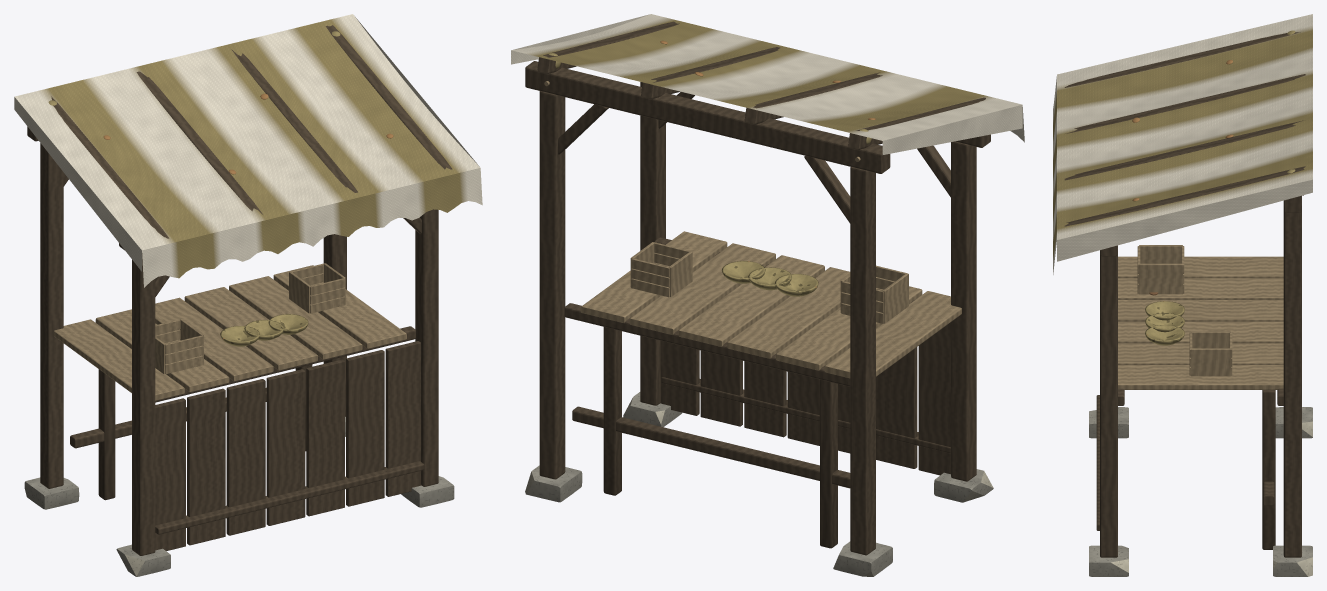
3 views of the same model, side by side, from view 1: azimuth 30°, elevation 25°; view 2: azimuth 150°, elevation 25°; view 3: azimuth 270°, elevation 25° (orthographic). The views are drawn at different scales.
Visible parts, largest first — view 1: heartwood, woven canvas, cut grain, weathered mineral, aged brass; view 2: heartwood, cut grain, woven canvas, weathered mineral, aged brass; view 3: woven canvas, cut grain, heartwood, weathered mineral, aged brass, fresh chipped mineral.
Boxes of the visible parts, x1,y1,x2,y2 form: heartwood: (27,25,452,555); woven canvas: (14,14,482,287); cut grain: (53,263,406,400); weathered mineral: (24,416,454,576); aged brass: (48,31,340,346); heartwood: (525,21,990,555); cut grain: (544,81,961,378); woven canvas: (511,14,1024,154); weathered mineral: (526,392,993,576); aged brass: (549,53,871,296); woven canvas: (1053,14,1312,274); cut grain: (1118,195,1303,389); heartwood: (1064,32,1305,557); weathered mineral: (1089,407,1312,576); aged brass: (1145,30,1295,345); fresh chipped mineral: (1111,421,1312,576).
Size of the model in its own units: 1.96 by 2.22 by 1.3.
Materials: 8 (6 with a texture image).
